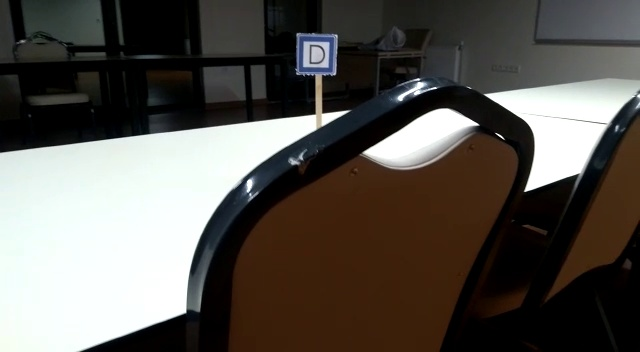durak: (297, 35, 334, 72)
